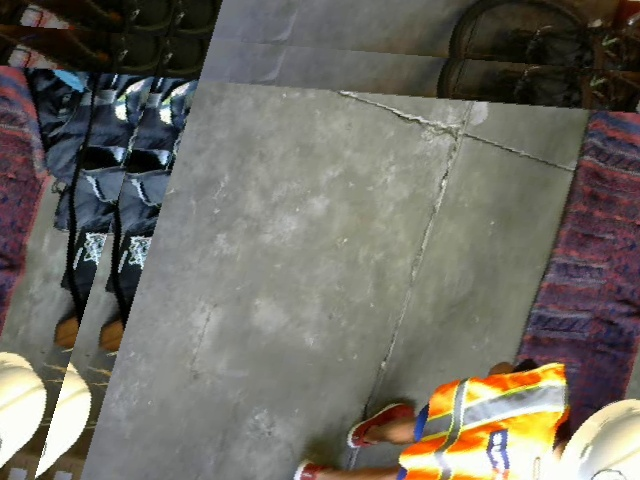eight: (579, 467, 636, 479)
